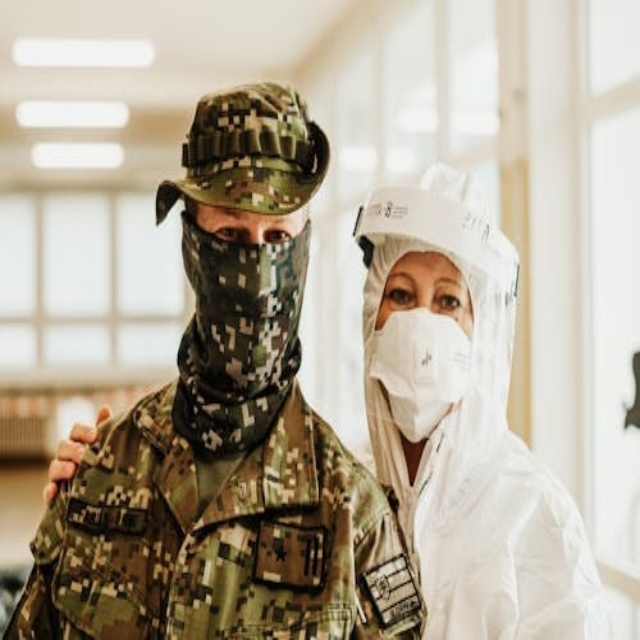Mascara: (169, 210, 308, 457), (369, 307, 473, 440)
Sin_gafas: (384, 263, 463, 317), (206, 206, 297, 250)
Sin_guantes: (45, 407, 111, 508)
